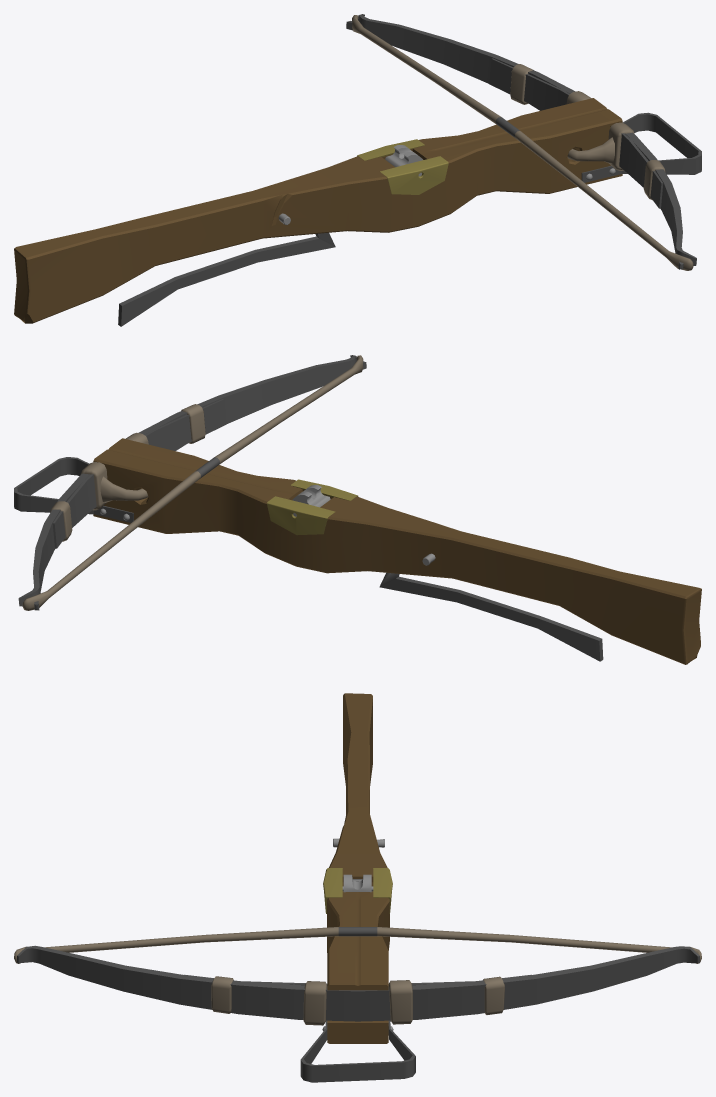
File: crossbow.fbx
The picture shows the model from 3 angles, top to bottom: view 1: azimuth 30°, elevation 25°; view 2: azimuth 150°, elevation 25°; view 3: azimuth 270°, elevation 25°; orthographic projection. The views are drawn at different scales.
Parts seen in each view (by area): view 1: pCube46, pCube60, polySurface18, pCube19, pCylinder41; view 2: pCube46, pCube60, polySurface18, pCube19, pCylinder41; view 3: pCube60, pCube46, polySurface18, pCube19.
Boxes of the visible parts, x1,y1,x2,y2 form: pCube46: (14,98,622,323); pCube60: (118,14,701,326); polySurface18: (352,15,693,270); pCube19: (357,139,448,194); pCylinder41: (385,145,422,167); pCube46: (93,438,701,664); pCube60: (14,355,603,661); polySurface18: (22,355,363,610); pCube19: (267,479,358,535); pCylinder41: (292,485,330,507); pCube60: (17,945,699,1082); pCube46: (327,693,389,1043); polySurface18: (14,927,701,1025); pCube19: (323,868,392,913).
Bounding box in the file's own units: 9.09 × 1.36 × 8.03.
